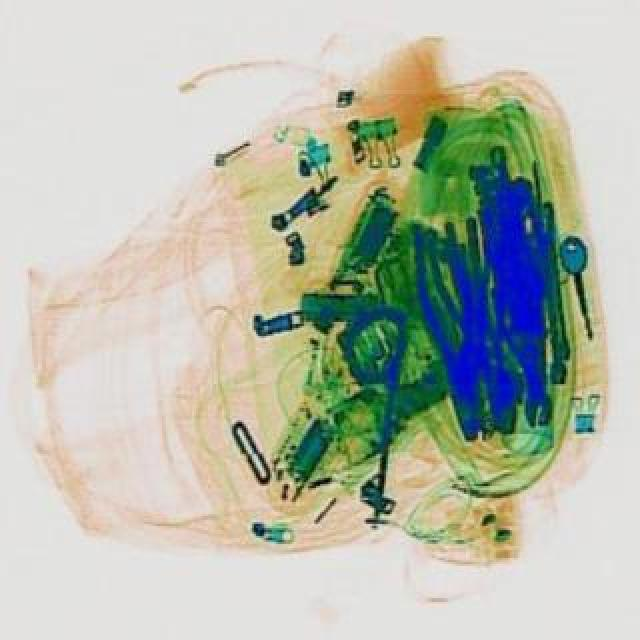scissors: (518, 322, 554, 424)
wrench: (400, 214, 500, 442)
